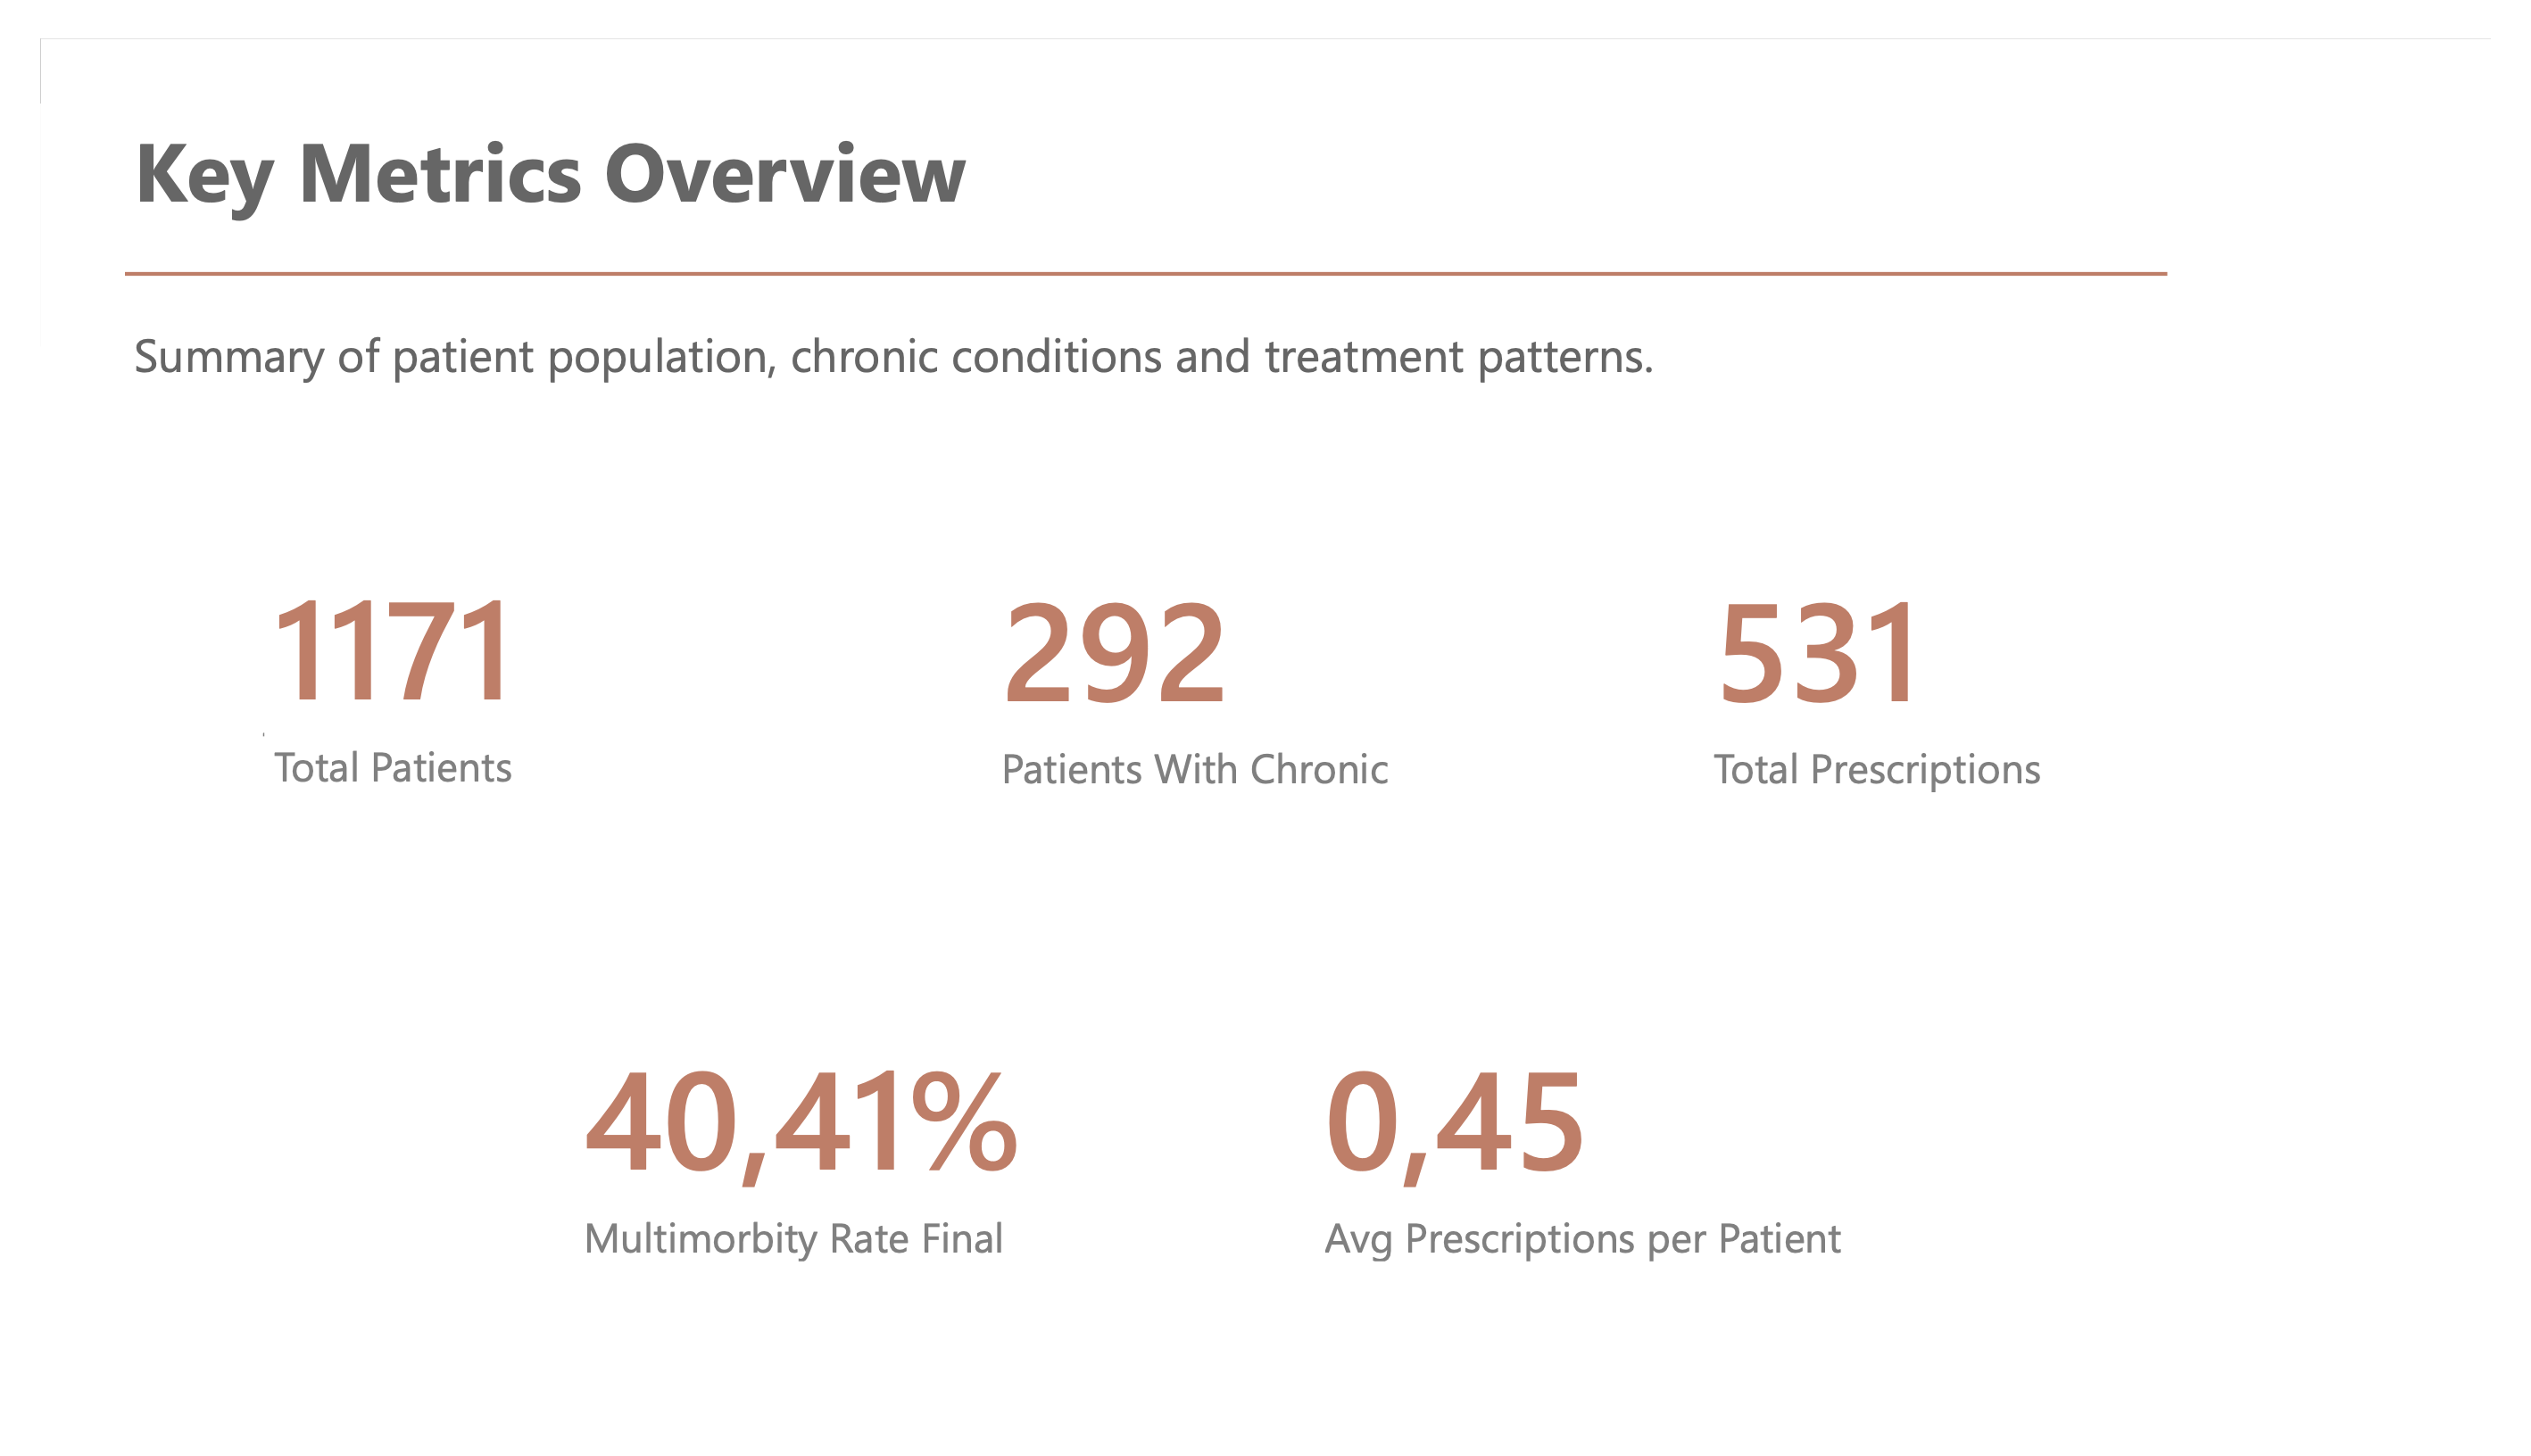

What the dashboard file says about the page in this screenshot:
{"tool":"powerbi","page":{"name":"KPI","canvas":[1280,720],"ordinal":1},"visuals":[{"type":"cardVisual","fields":{"Data":["Sum(chronic_by_age.patients_with_chronic)"]},"box":[473.3,236.7,333.3,188.3],"z":0},{"type":"textbox","box":[44.1,33.9,508.5,72.9],"z":1000},{"type":"textbox","box":[44.3,142.9,942.9,58.6],"z":2000},{"type":"shape","box":[44.3,107.1,1067.1,31.4],"z":3000},{"type":"cardVisual","fields":{"Data":["Sum(medication_analysis.total_prescriptions)"]},"box":[845,236.7,333.3,188.3],"z":4000},{"type":"cardVisual","fields":{"Data":["medication_analysis.Avg prescriptions per Patient"]},"box":[641.7,481.7,333.3,188.3],"z":5000},{"type":"cardVisual","fields":{"Data":["multimorbidity.Multimorbity Rate Final"]},"box":[255,481.7,333.3,188.3],"z":6000},{"type":"cardVisual","fields":{"Data":["Sum(chronic_by_age.total_patients)"]},"box":[86.7,236.7,333.3,188.3],"z":7000},{"type":"textbox","box":[116.7,261.7,158.3,146.7],"z":8000},{"type":"textbox","box":[116.7,360,238.3,45],"z":10000}]}

Visuals, with their boxes in screenshot pixels (x1, y1, x2, y2), scaled from the page's 1280x720 canvas onto the 2531x1456 screenshot:
cardVisual - Sum(chronic_by_age.patients_with_chronic): bbox=(936, 479, 1595, 859)
textbox: bbox=(87, 69, 1092, 216)
textbox: bbox=(87, 289, 1952, 408)
shape: bbox=(87, 217, 2197, 280)
cardVisual - Sum(medication_analysis.total_prescriptions): bbox=(1671, 479, 2330, 859)
cardVisual - medication_analysis.Avg prescriptions per Patient: bbox=(1269, 974, 1928, 1355)
cardVisual - multimorbidity.Multimorbity Rate Final: bbox=(504, 974, 1163, 1355)
cardVisual - Sum(chronic_by_age.total_patients): bbox=(171, 479, 831, 859)
textbox: bbox=(231, 529, 544, 826)
textbox: bbox=(231, 728, 702, 819)
